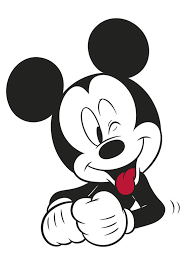mickey: (3, 17, 165, 246)
